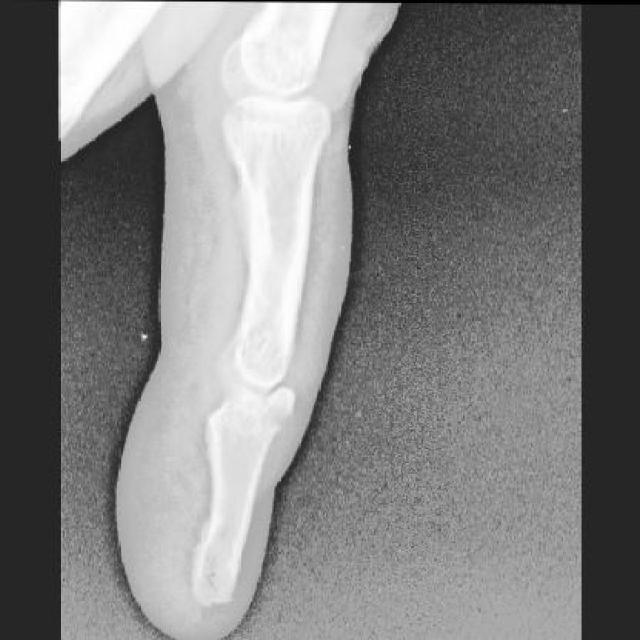Fracture: (248, 382, 304, 441)
